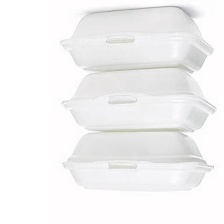foam_box: (55, 63, 220, 137), (57, 126, 220, 200), (55, 3, 217, 76)
